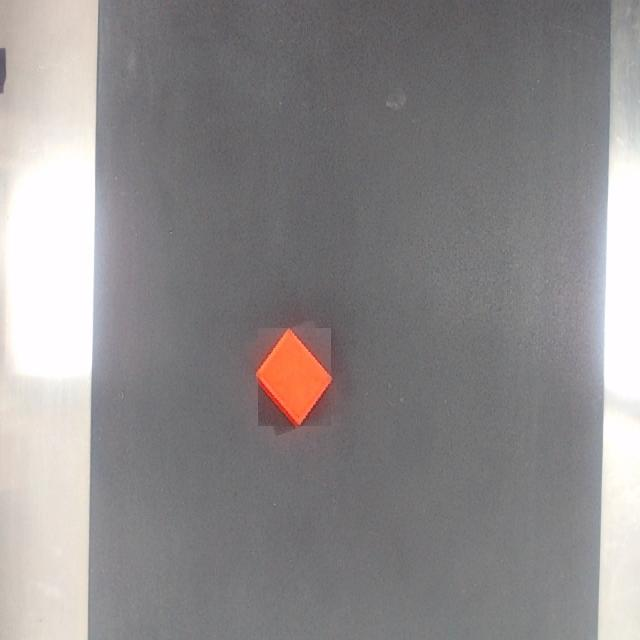Rojo: (256, 328, 334, 428)
